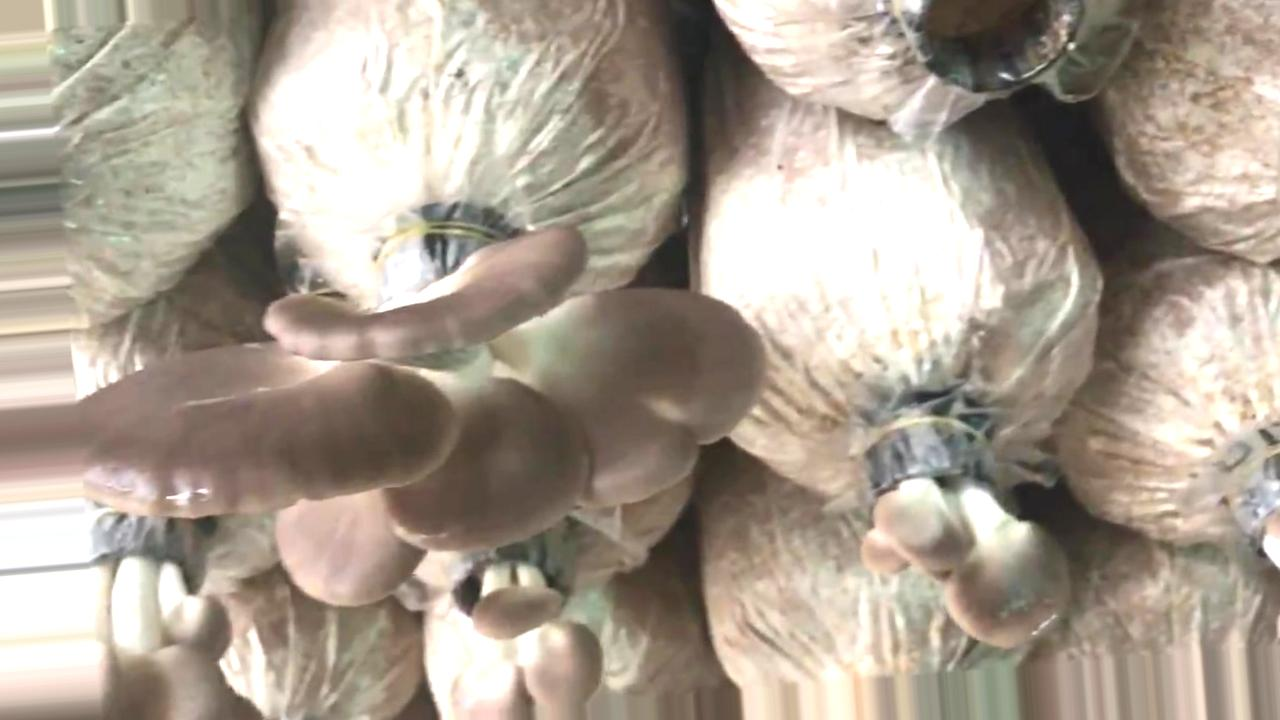nam: (1, 216, 768, 612), (853, 402, 1074, 659), (448, 550, 606, 720)
